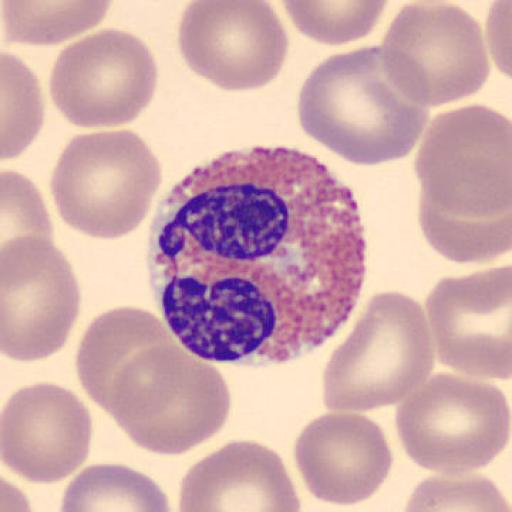RBC: (296, 42, 429, 168), (412, 101, 512, 266), (106, 343, 232, 457), (322, 289, 436, 412), (48, 128, 164, 242), (394, 371, 512, 480), (380, 1, 490, 108), (413, 102, 511, 220), (48, 27, 158, 130), (76, 304, 176, 411), (2, 232, 82, 365), (176, 0, 290, 93), (424, 264, 512, 381), (292, 410, 395, 508), (1, 380, 94, 486), (178, 437, 301, 512), (416, 175, 512, 265), (58, 461, 172, 512), (2, 168, 55, 271), (2, 0, 115, 47), (279, 0, 391, 47), (2, 50, 45, 162), (400, 472, 511, 512), (485, 0, 512, 83), (0, 472, 34, 512)
WBC: (146, 152, 370, 367)
